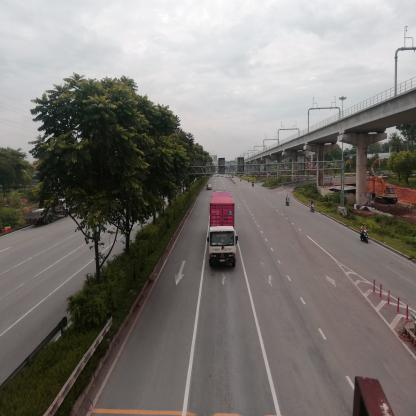car: (207, 186, 212, 192)
container: (210, 193, 239, 268)
motorbike: (362, 225, 370, 243), (286, 195, 291, 208), (312, 202, 317, 214)
